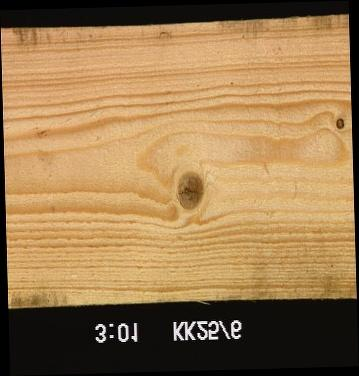dry_knot: (332, 115, 344, 132)
sound_knot: (173, 171, 205, 210)
